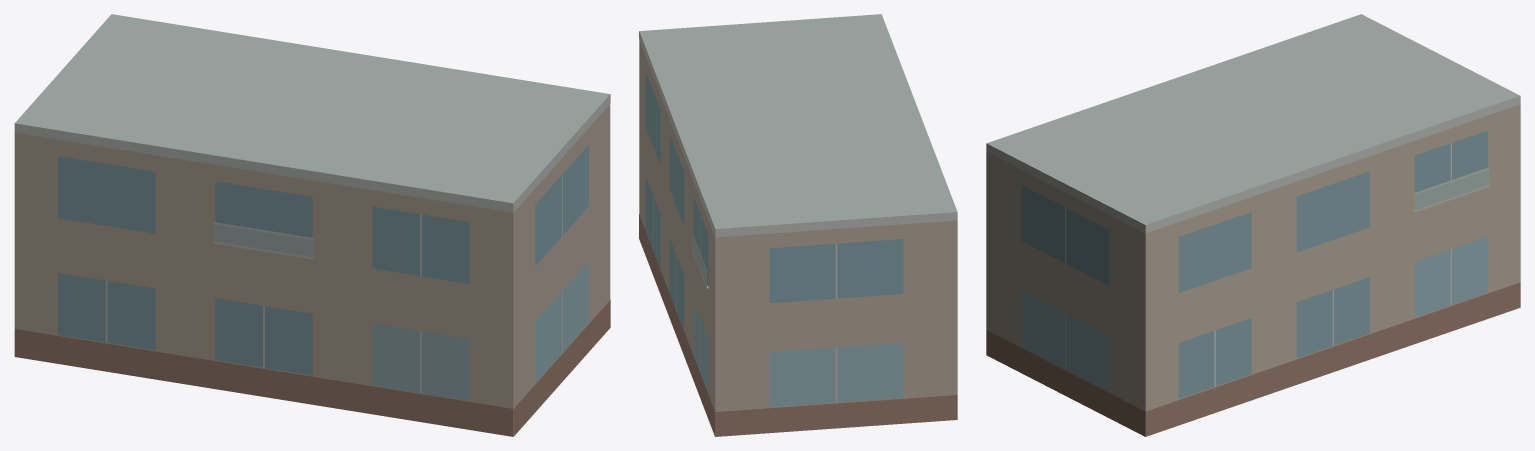
File: survey-upis-32710226.glb
3 views of the same model, side by side, from view 1: azimuth 30°, elevation 25°; view 2: azimuth 150°, elevation 25°; view 3: azimuth 270°, elevation 25° (orthographic). The views are drawn at different scales.
Visible parts, largest first — view 1: survey-upis-32710226.tmp; view 2: survey-upis-32710226.tmp; view 3: survey-upis-32710226.tmp.
Boxes of the visible parts, x1,y1,x2,y2 form: survey-upis-32710226.tmp: (14,14,610,436); survey-upis-32710226.tmp: (639,14,957,436); survey-upis-32710226.tmp: (986,14,1520,436).
Bounding box in the file's own units: 13.04 × 6.1 × 13.95.
